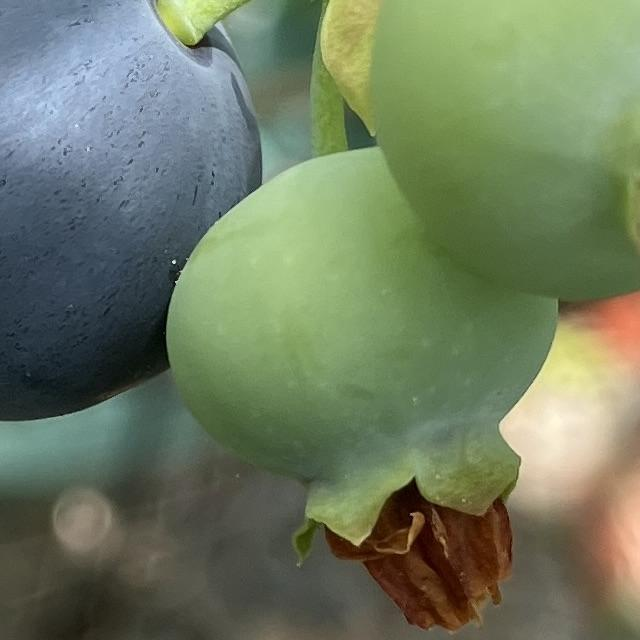Blueberries: (0, 0, 266, 423), (362, 0, 640, 312)
